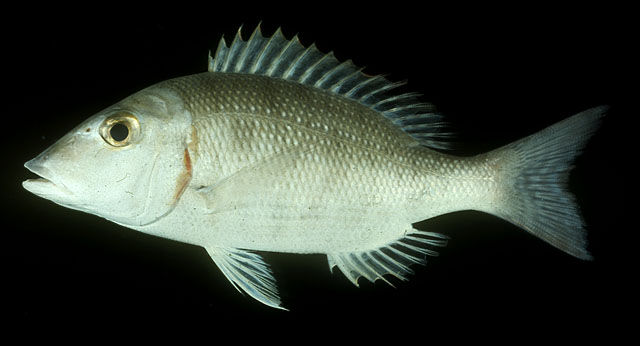fish: (21, 22, 604, 312)
